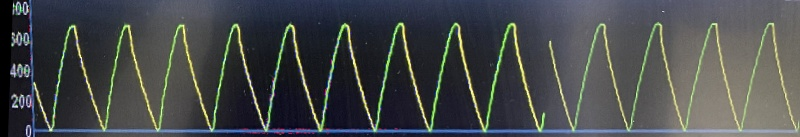normal_volume: (48, 14, 536, 137), (567, 13, 798, 137)
